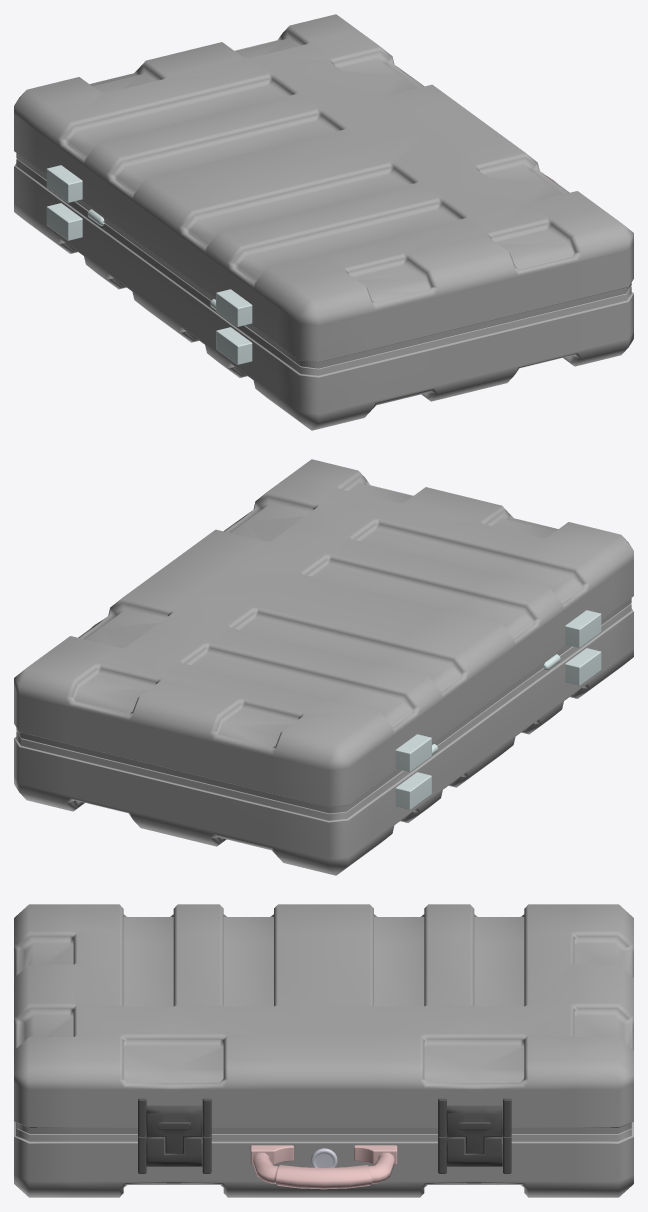
Rendered from valise.fbx.
The picture shows the model from 3 angles, top to bottom: view 1: azimuth 30°, elevation 25°; view 2: azimuth 150°, elevation 25°; view 3: azimuth 270°, elevation 25°; orthographic projection. The views are drawn at different scales.
Visible parts, largest first — view 1: polySurface1, polySurface2, pied3, pied4, pied1, pied2; view 2: polySurface1, polySurface2, pied1, pied2, pied4, pied3; view 3: polySurface1, polySurface2, poigne, clip_haut1, clip_haut, clip_bas1, clip_bas, socle_poigne, detail_cylindre.
Boxes of the visible parts, x1=… form: polySurface1: x1=14, y1=14, x2=633, y2=368; polySurface2: x1=14, y1=159, x2=633, y2=430; pied3: x1=216, y1=289, x2=252, y2=326; pied4: x1=216, y1=327, x2=252, y2=364; pied1: x1=46, y1=203, x2=82, y2=240; pied2: x1=46, y1=165, x2=82, y2=202; polySurface1: x1=14, y1=459, x2=633, y2=813; polySurface2: x1=14, y1=604, x2=633, y2=875; pied1: x1=395, y1=772, x2=431, y2=809; pied2: x1=395, y1=734, x2=431, y2=771; pied4: x1=565, y1=648, x2=601, y2=685; pied3: x1=565, y1=610, x2=601, y2=647; polySurface1: x1=14, y1=904, x2=633, y2=1134; polySurface2: x1=14, y1=1122, x2=633, y2=1197; poigne: x1=253, y1=1152, x2=394, y2=1189; clip_haut1: x1=446, y1=1105, x2=502, y2=1153; clip_haut: x1=146, y1=1105, x2=202, y2=1153; clip_bas1: x1=446, y1=1137, x2=502, y2=1166; clip_bas: x1=146, y1=1137, x2=202, y2=1166; socle_poigne: x1=250, y1=1145, x2=397, y2=1164; detail_cylindre: x1=311, y1=1148, x2=337, y2=1167.
Bounding box in the file's own units: 4.18 × 1.29 × 5.28.
